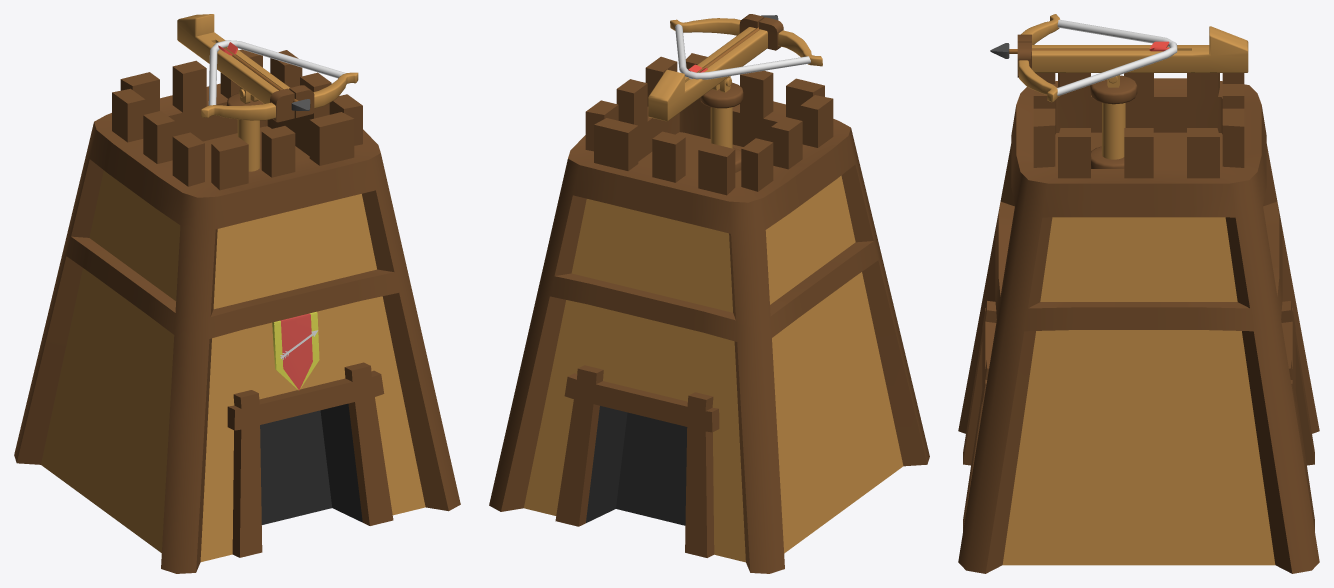
File: Watch tower with arrow level1.fbx
3 views of the same model, side by side, from view 1: azimuth 30°, elevation 25°; view 2: azimuth 150°, elevation 25°; view 3: azimuth 270°, elevation 25° (orthographic). The views are drawn at different scales.
Parts seen in each view (by area): view 1: Cube.178, Cube.186, Plane.003, Cube.187; view 2: Cube.178, Cube.186, Plane.003; view 3: Cube.178, Cube.186, Plane.003, Cube.187.
Part boxes in pixels (x1,y1,x2,y2): Cube.178: (14, 49, 460, 573); Cube.186: (177, 14, 358, 173); Plane.003: (208, 40, 346, 105); Cube.187: (218, 42, 310, 110); Cube.178: (489, 53, 929, 573); Cube.186: (648, 14, 822, 172); Plane.003: (675, 24, 810, 79); Cube.178: (958, 73, 1319, 573); Cube.186: (1017, 14, 1248, 168); Plane.003: (1057, 19, 1177, 95); Cube.187: (990, 41, 1169, 58).
Size of the model in its own units: 224 by 322 by 222.
